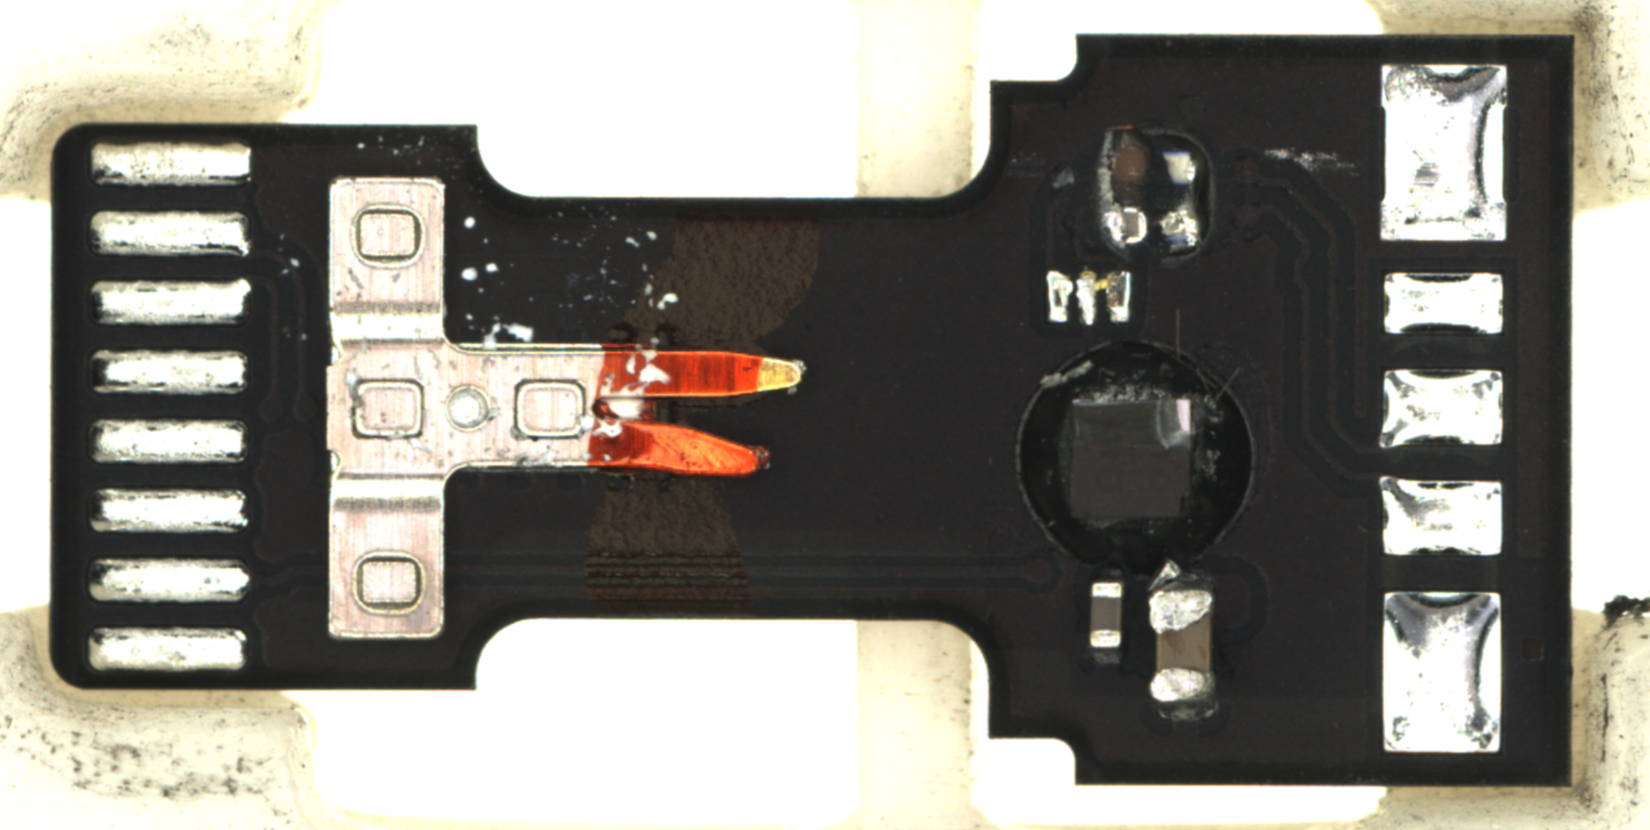d1_missing: (1035, 265, 1143, 330)
